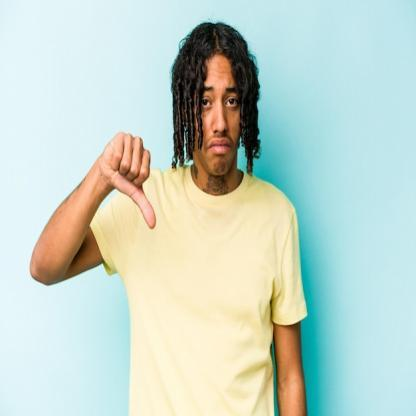thumb_down: (96, 128, 162, 233)
